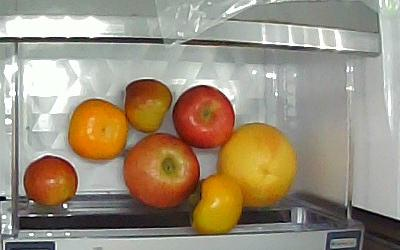apple: (123, 133, 200, 210), (173, 84, 236, 149)
grapefruit: (217, 123, 298, 209)
persimmon: (67, 98, 127, 163), (189, 175, 242, 235)
prune: (22, 155, 79, 209), (123, 79, 173, 134)
